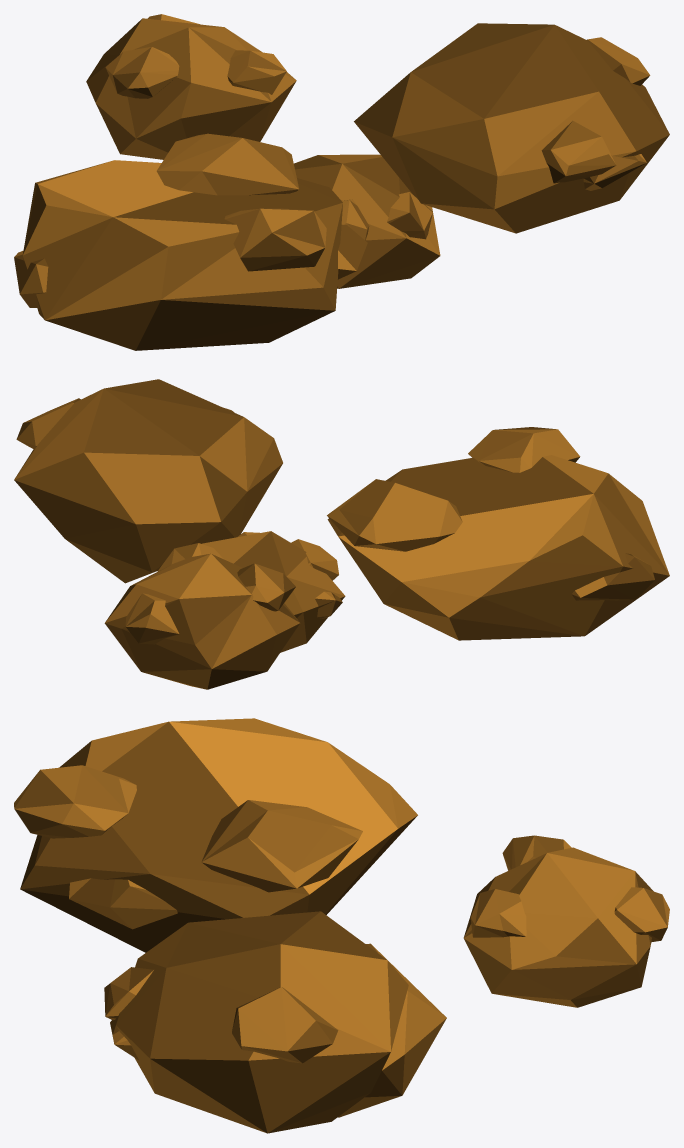
File: Leaves_C.glb
3 views of the same model, one above another, from view 1: azimuth 30°, elevation 25°; view 2: azimuth 150°, elevation 25°; view 3: azimuth 270°, elevation 25° (orthographic). The views are drawn at different scales.
Parts seen in each view (by area): view 1: Leaves; view 2: Leaves; view 3: Leaves.
Boxes of the visible parts, x1,y1,x2,y2 form: Leaves: (14,14,669,350); Leaves: (14,379,669,689); Leaves: (14,718,669,1133).
Bounding box in the file's own units: 34.34 × 11.89 × 27.35.
